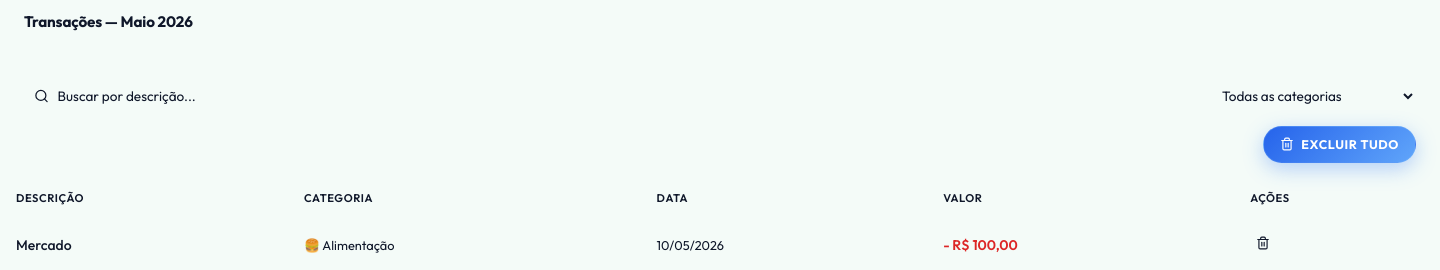
Test: TransactionList — busca com debounce › exibe botão de limpar busca quando input não está vazio
The width and height of the screenshot is (1440, 270).
Type "a" into the field labelled "Buscar por descrição..." at (609, 96), box [24, 79, 1194, 113]
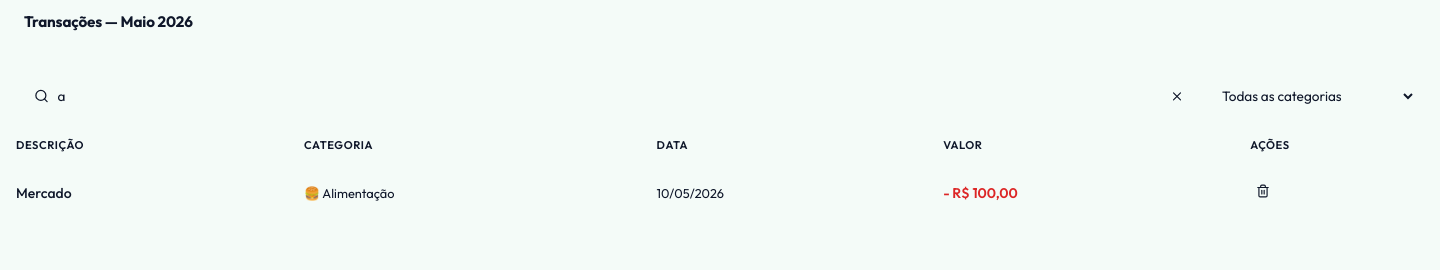
Check: the button named "limpar busca" is shown, box [1169, 88, 1186, 105]
